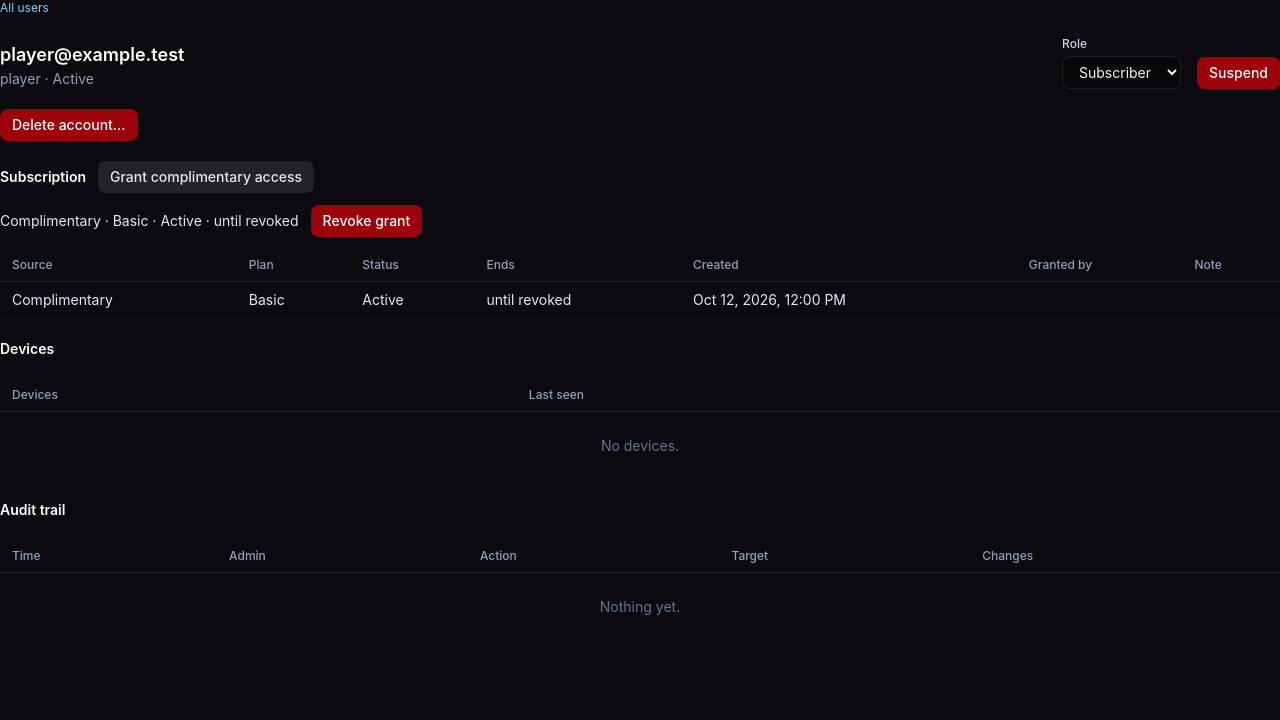
Scenario: grant and revoke polish (M8d minors) › a successful grant clears an old revoke error
The width and height of the screenshot is (1280, 720).
Click the button "Revoke grant" at (366, 221), box [311,205,422,237]
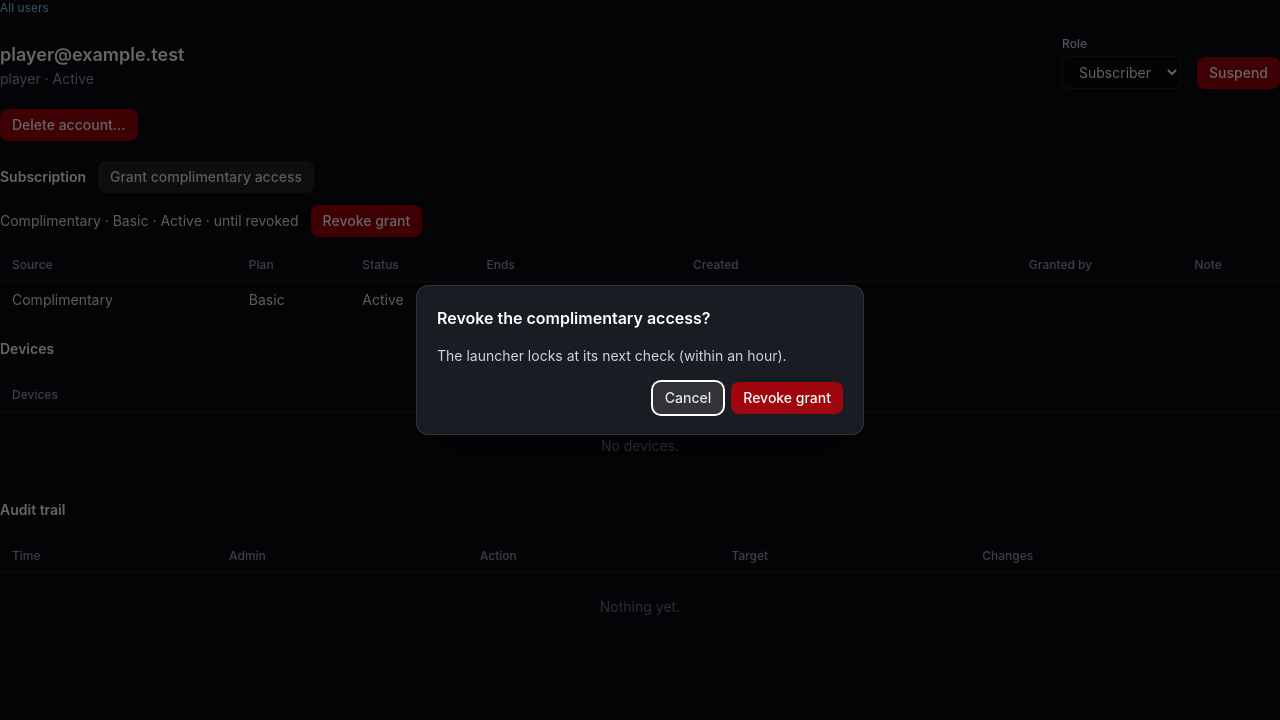
Click the button "Revoke grant" at (787, 398), box [731,382,843,414]
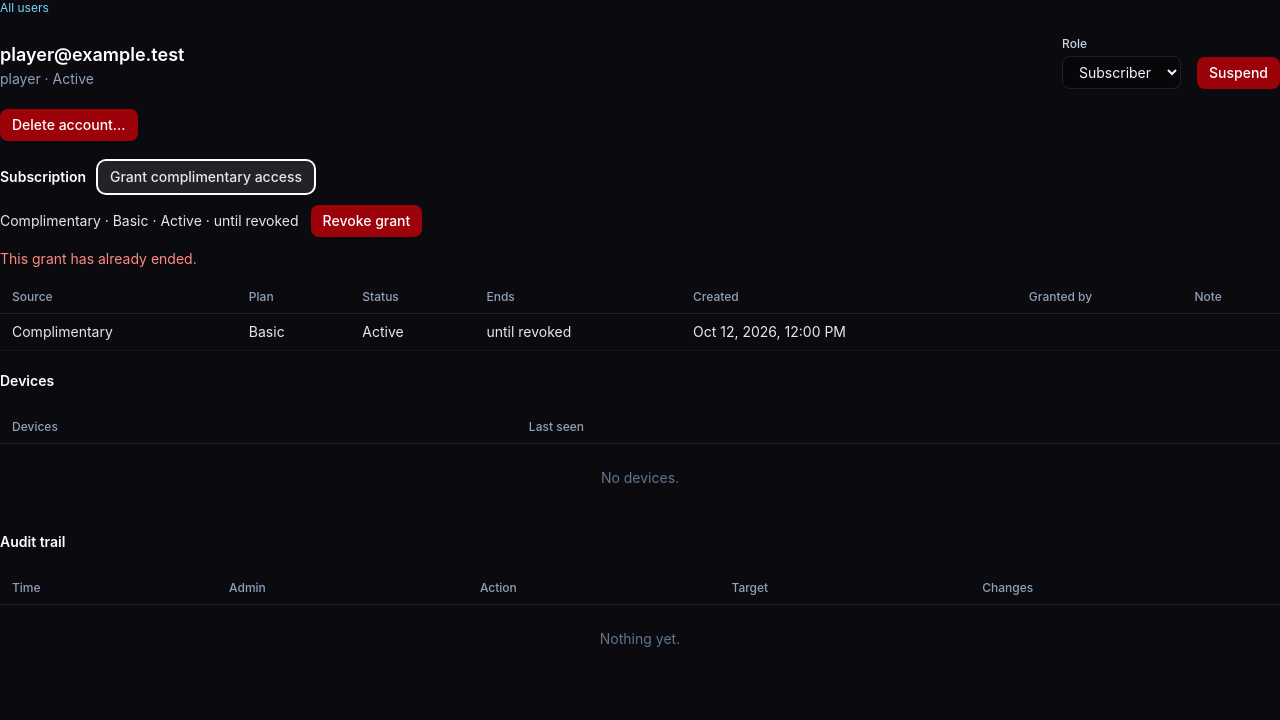
Result: the message shows "already ended" at [0,250,197,267]
Click the button "Grant complimentary access" at (206, 177), box [98,161,314,193]
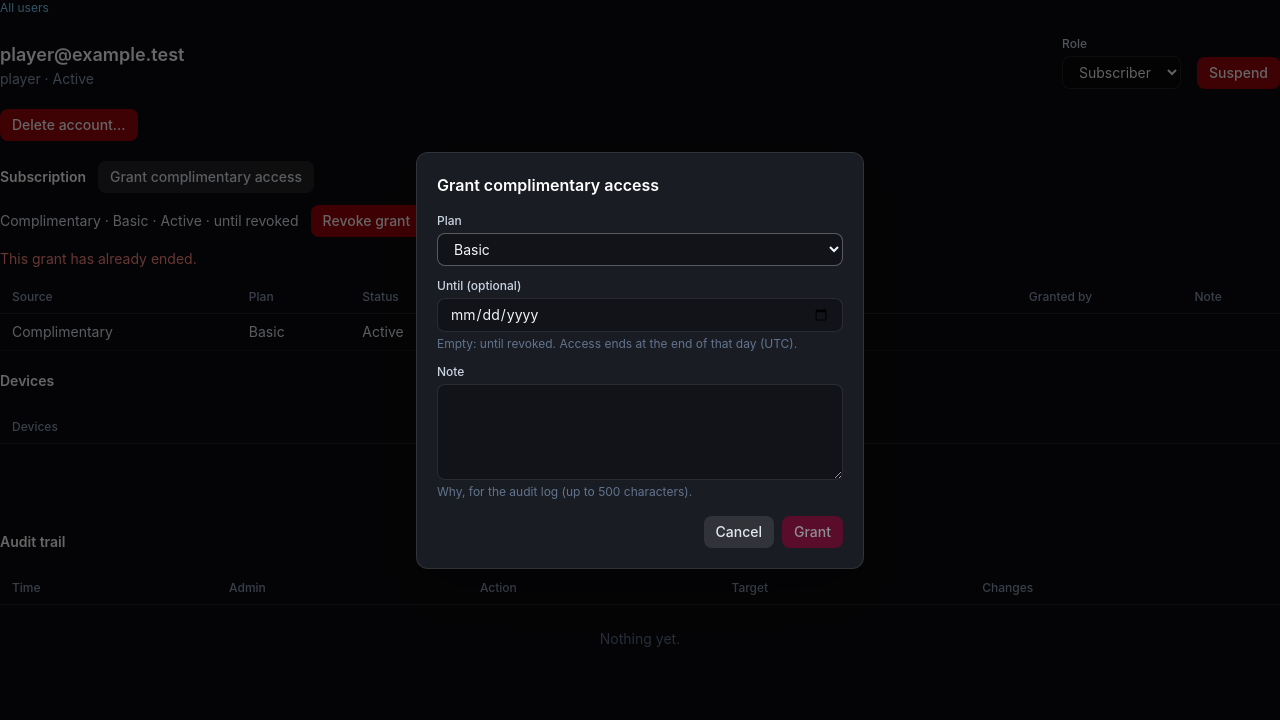
Type "again" into the text box labelled "Note" at (640, 432), box [437,384,843,480]
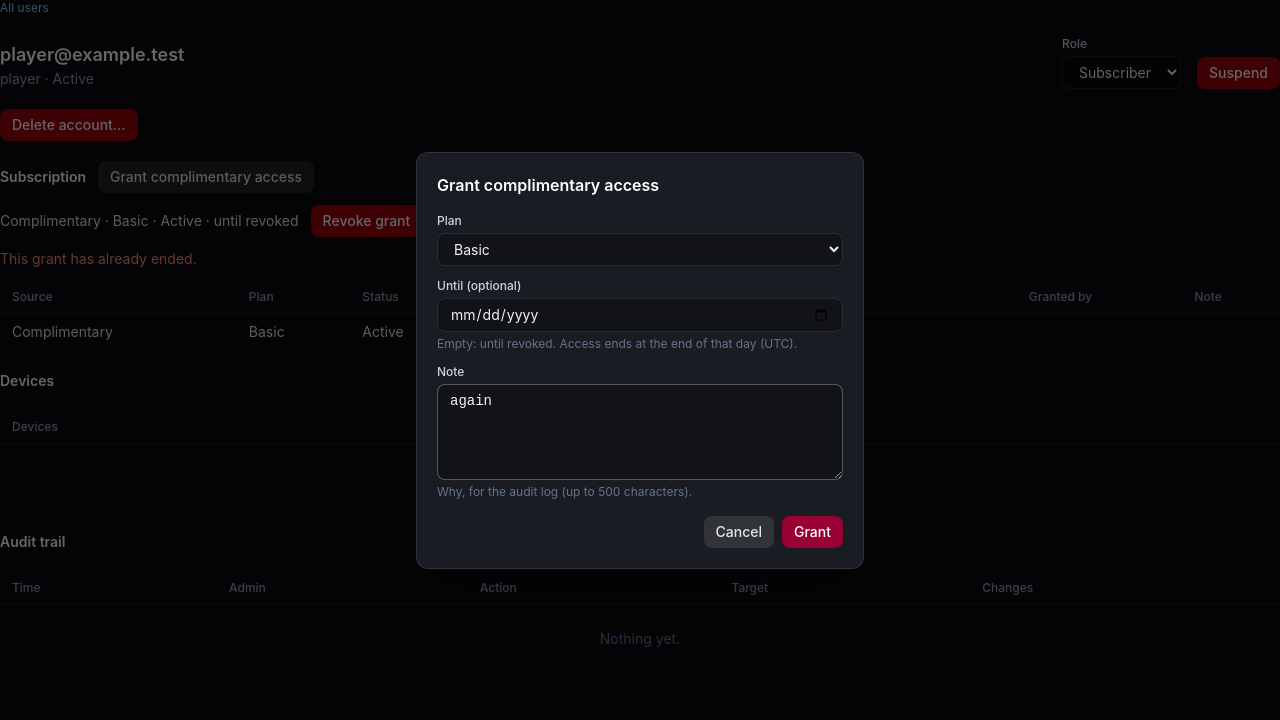
Click the button "Grant" at (812, 532), box [782,516,843,548]
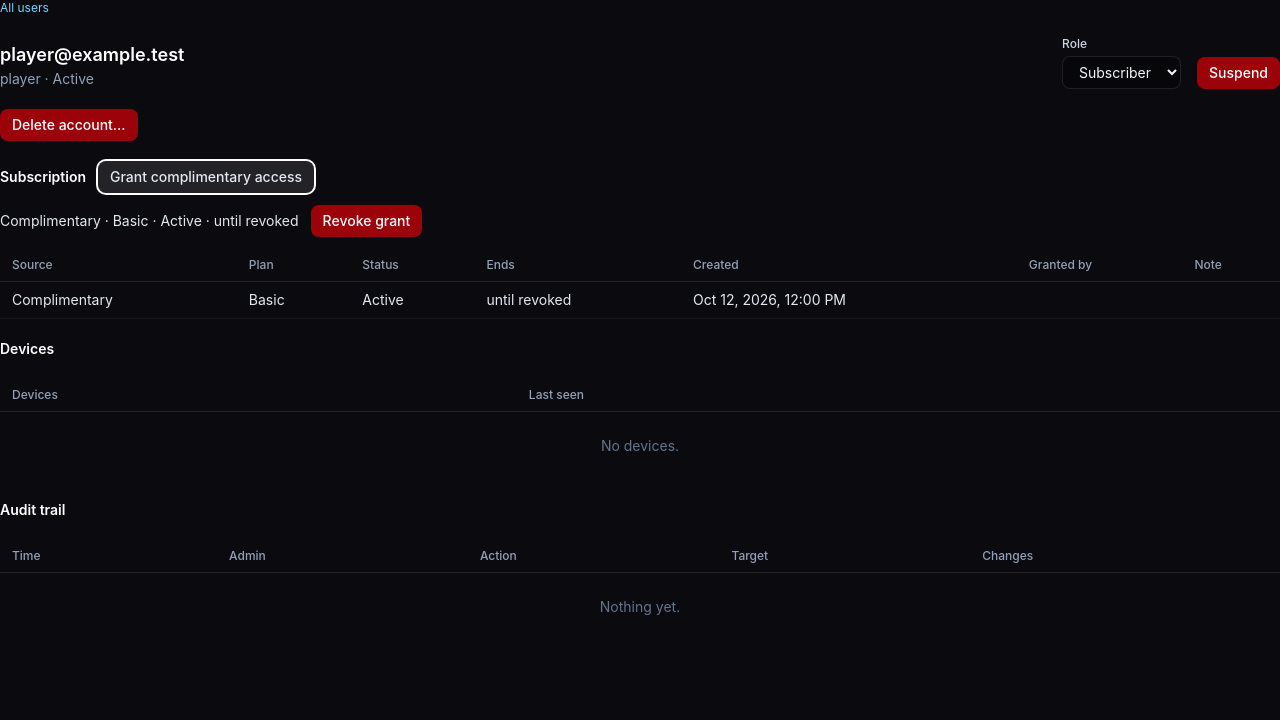
Result: the dialog is gone
Result: the message "This grant has already ended." is gone
